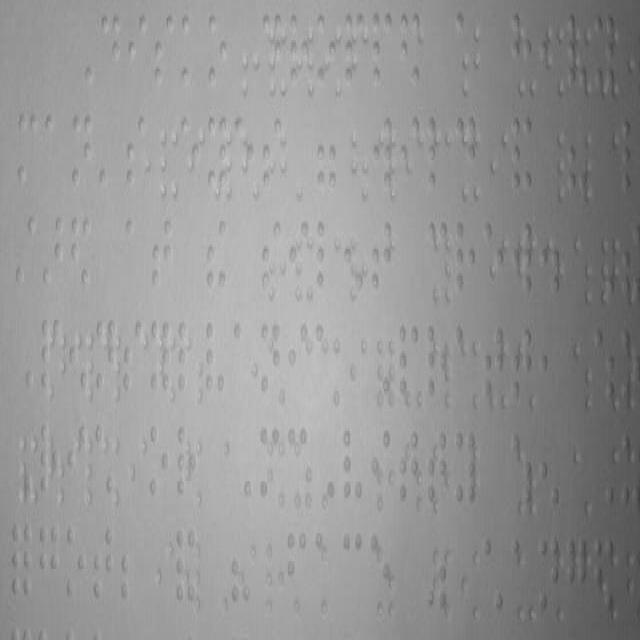braiile: (37, 526, 61, 608), (454, 428, 478, 506), (92, 523, 116, 601), (539, 534, 561, 614), (65, 524, 87, 604), (593, 12, 615, 90), (206, 114, 228, 192), (147, 421, 169, 499), (124, 215, 146, 292), (342, 531, 364, 607), (123, 318, 145, 393), (398, 323, 420, 397), (287, 528, 309, 602), (620, 116, 640, 196), (484, 322, 504, 402), (152, 218, 174, 289), (342, 423, 362, 501), (456, 217, 476, 294), (372, 11, 392, 87), (371, 222, 392, 294), (206, 322, 227, 394), (100, 12, 120, 86), (128, 12, 148, 86), (154, 12, 174, 86), (180, 12, 200, 86), (44, 112, 64, 186), (17, 114, 38, 184), (316, 217, 336, 290), (289, 324, 309, 396), (232, 320, 252, 391), (208, 14, 228, 84), (126, 116, 146, 186), (72, 116, 92, 186)
